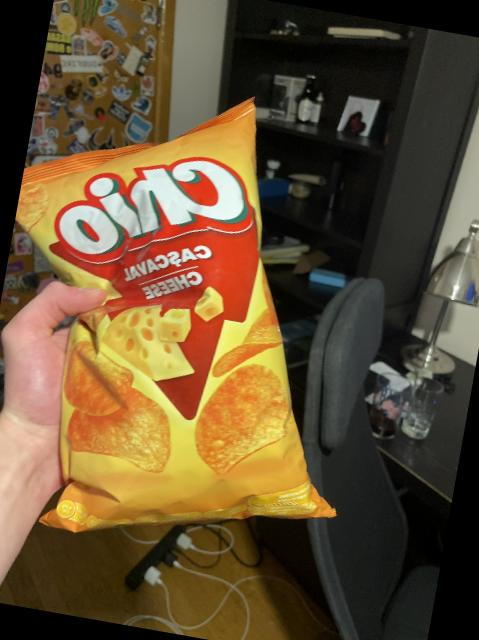Chio Cascaval 125g: (0, 60, 406, 575)
